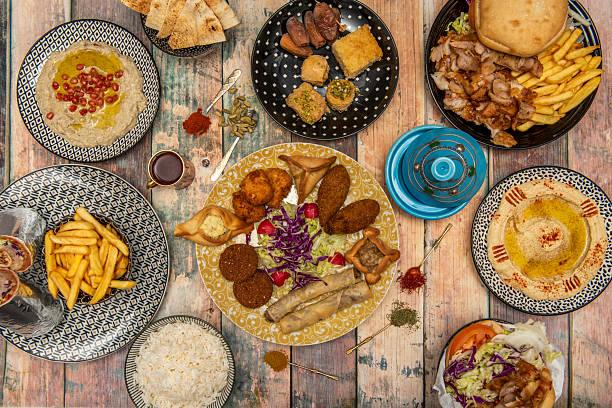Braised Crucian Carp: (195, 141, 392, 344), (0, 168, 173, 359), (419, 2, 605, 150), (15, 15, 165, 166), (469, 164, 612, 316), (249, 1, 395, 142), (433, 318, 565, 404)
